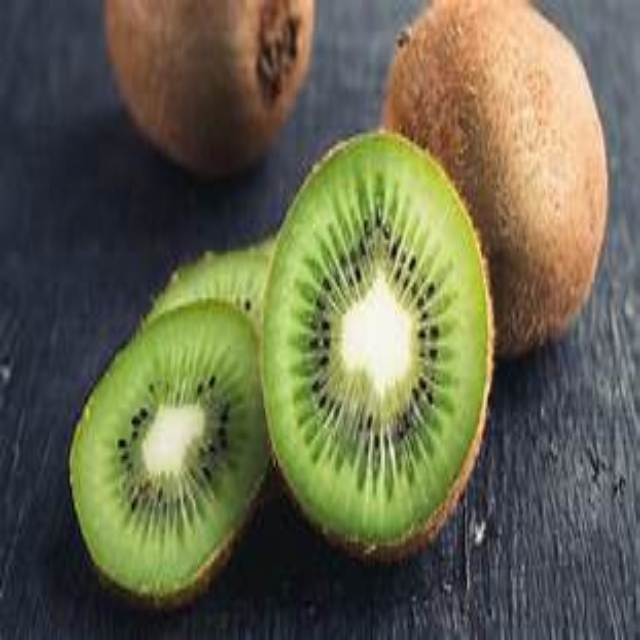kiwi: (254, 131, 488, 560), (371, 1, 617, 361), (67, 231, 300, 608), (98, 4, 330, 180)
